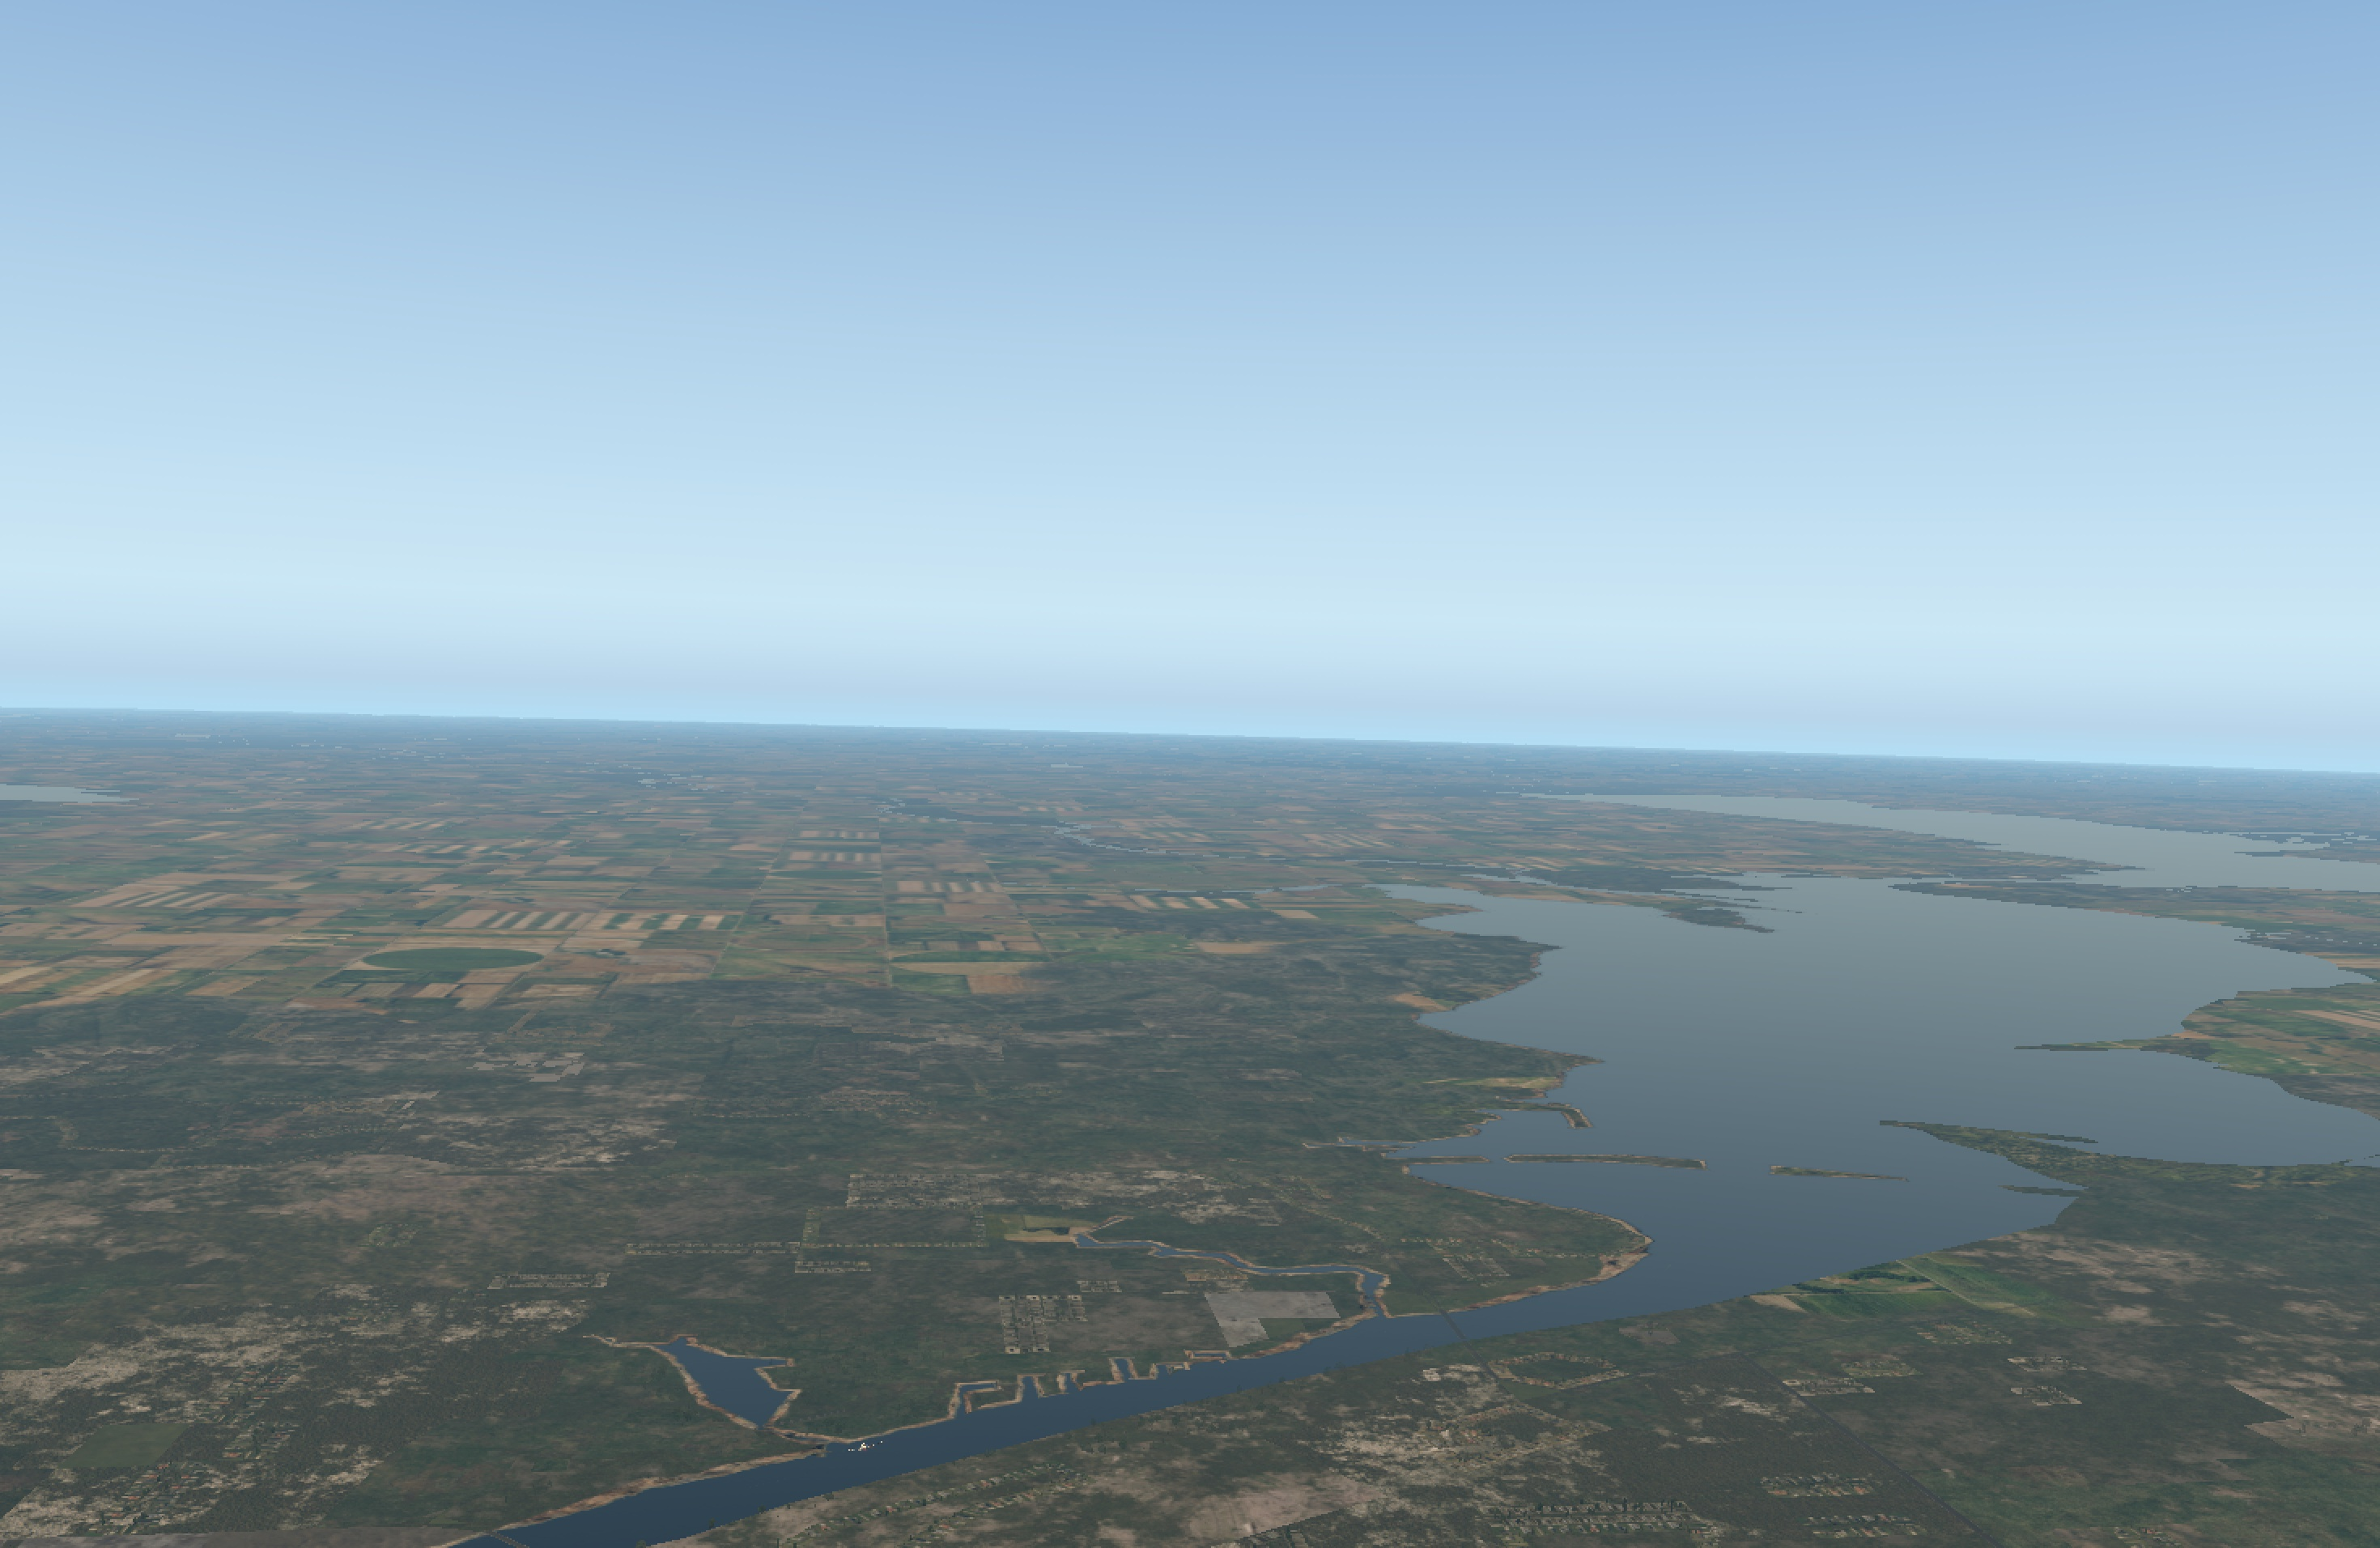aircraft: (845, 1440, 886, 1456)
